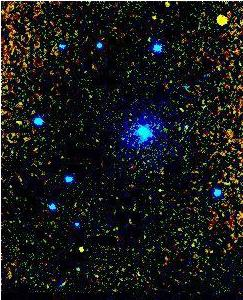star: (206, 7, 236, 37)
